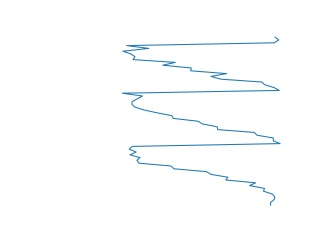distributaryMouthBar: (118, 35, 282, 208)
